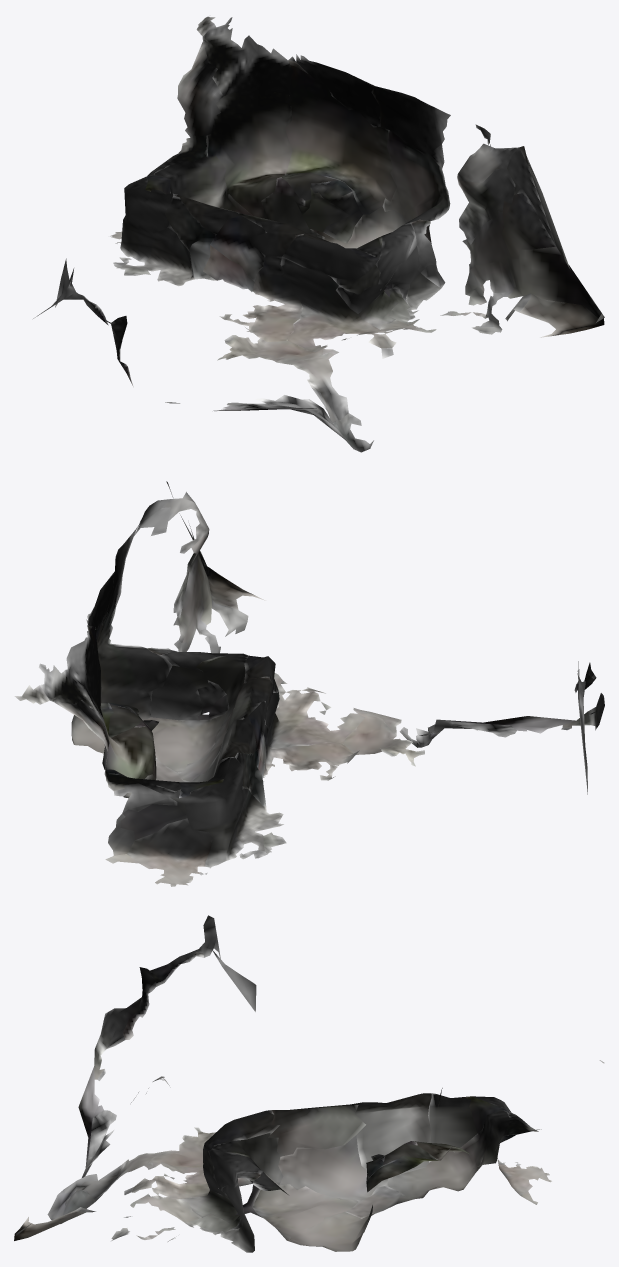
The model's file is hall.glb.
3 renders of one model, top to bottom at view 1: azimuth 30°, elevation 25°; view 2: azimuth 150°, elevation 25°; view 3: azimuth 270°, elevation 25°, orthographic. The views are drawn at different scales.
Size of the model in its own units: 0.8469 by 0.3917 by 0.8986.
1 material, 1 textured.
